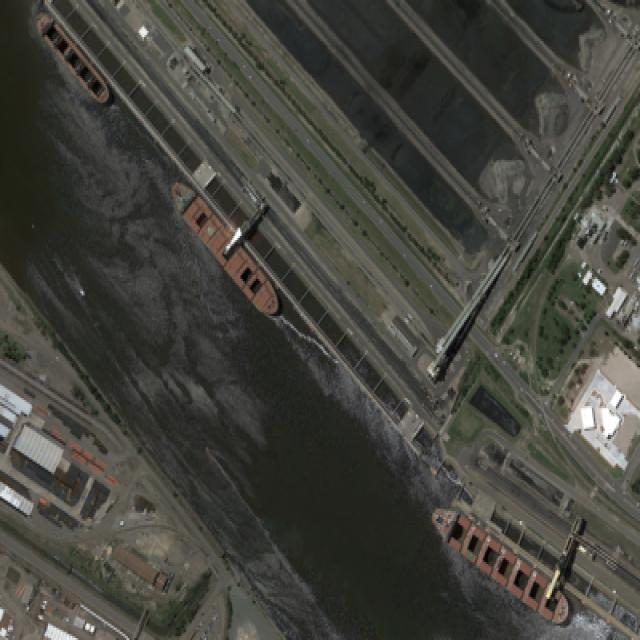boat: (430, 504, 570, 624), (170, 180, 278, 314), (34, 10, 108, 103), (78, 288, 85, 296)
